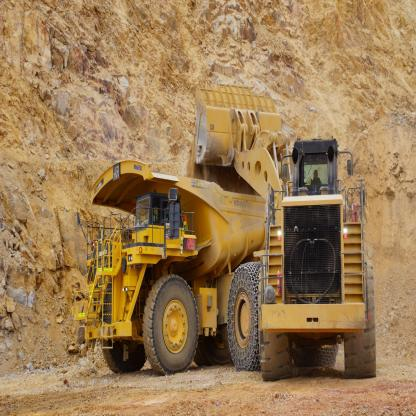bull_dozer/loader/grader: (182, 73, 395, 390)
